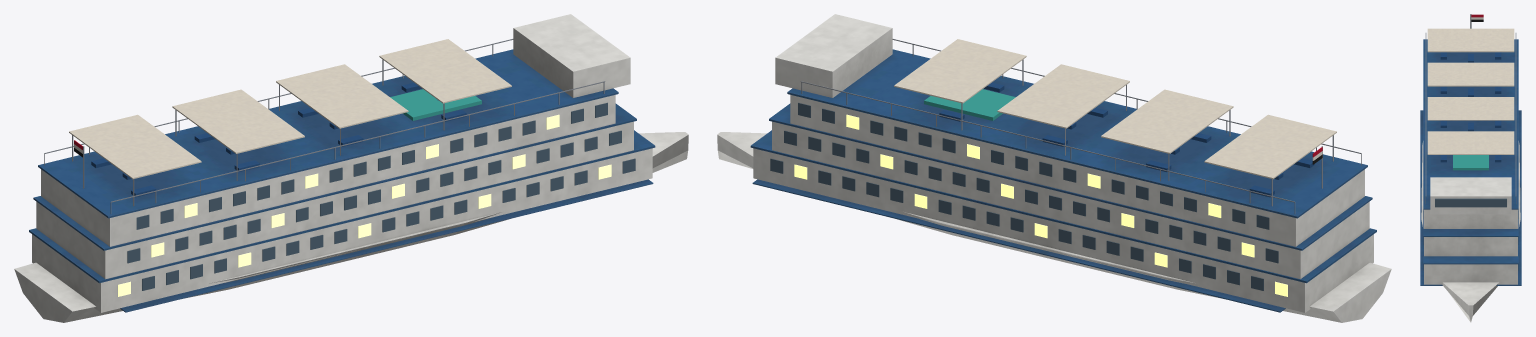
File: kryssningsbat_tex.glb
3 renders of one model, left to right at view 1: azimuth 30°, elevation 25°; view 2: azimuth 150°, elevation 25°; view 3: azimuth 270°, elevation 25°, orthographic. The views are drawn at different scales.
Parts seen in each view (by area): view 1: kryssningsbat; view 2: kryssningsbat; view 3: kryssningsbat.
Part boxes in pixels (x1=…): kryssningsbat: x1=14, y1=14, x2=688, y2=322; kryssningsbat: x1=717, y1=14, x2=1391, y2=322; kryssningsbat: x1=1420, y1=14, x2=1521, y2=322.
Size of the model in its own units: 56 by 13.9 by 11.22.
11 materials, 4 textured.
